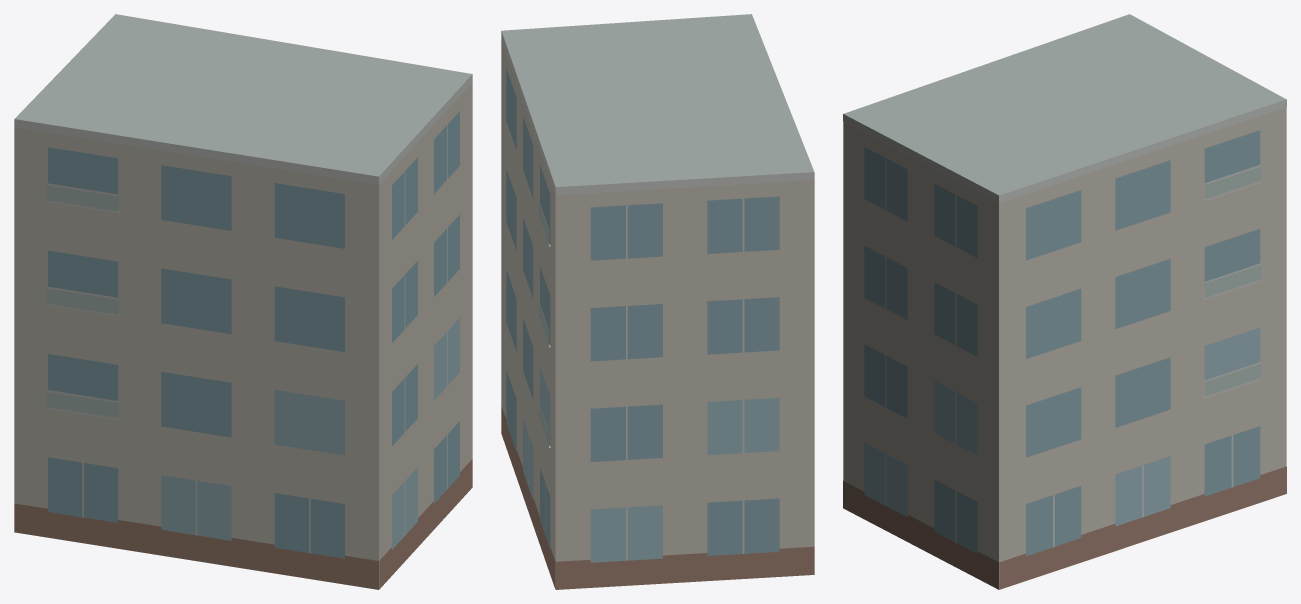
The model's file is survey-upis-32749260.glb.
3 renders of one model, left to right at view 1: azimuth 30°, elevation 25°; view 2: azimuth 150°, elevation 25°; view 3: azimuth 270°, elevation 25°, orthographic. The views are drawn at different scales.
Parts seen in each view (by area): view 1: survey-upis-32749260.tmp; view 2: survey-upis-32749260.tmp; view 3: survey-upis-32749260.tmp.
Boxes of the visible parts, x1,y1,x2,y2 form: survey-upis-32749260.tmp: [14, 14, 472, 589]; survey-upis-32749260.tmp: [501, 14, 814, 589]; survey-upis-32749260.tmp: [843, 14, 1286, 589].
Size of the model in its own units: 12.05 by 12.2 by 12.44.
